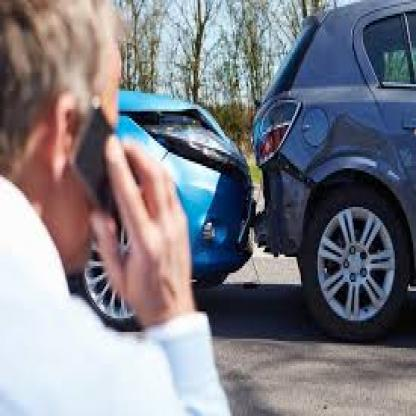accident: (156, 62, 341, 296)
